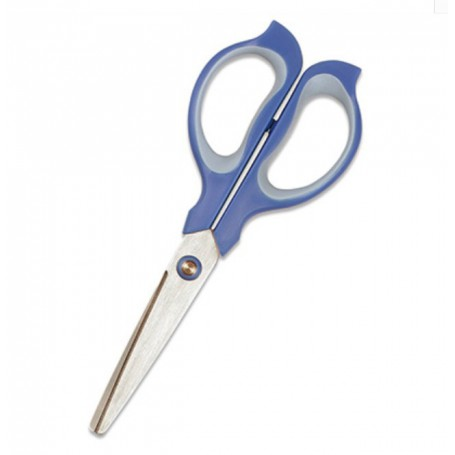scissors: (75, 17, 367, 443)
